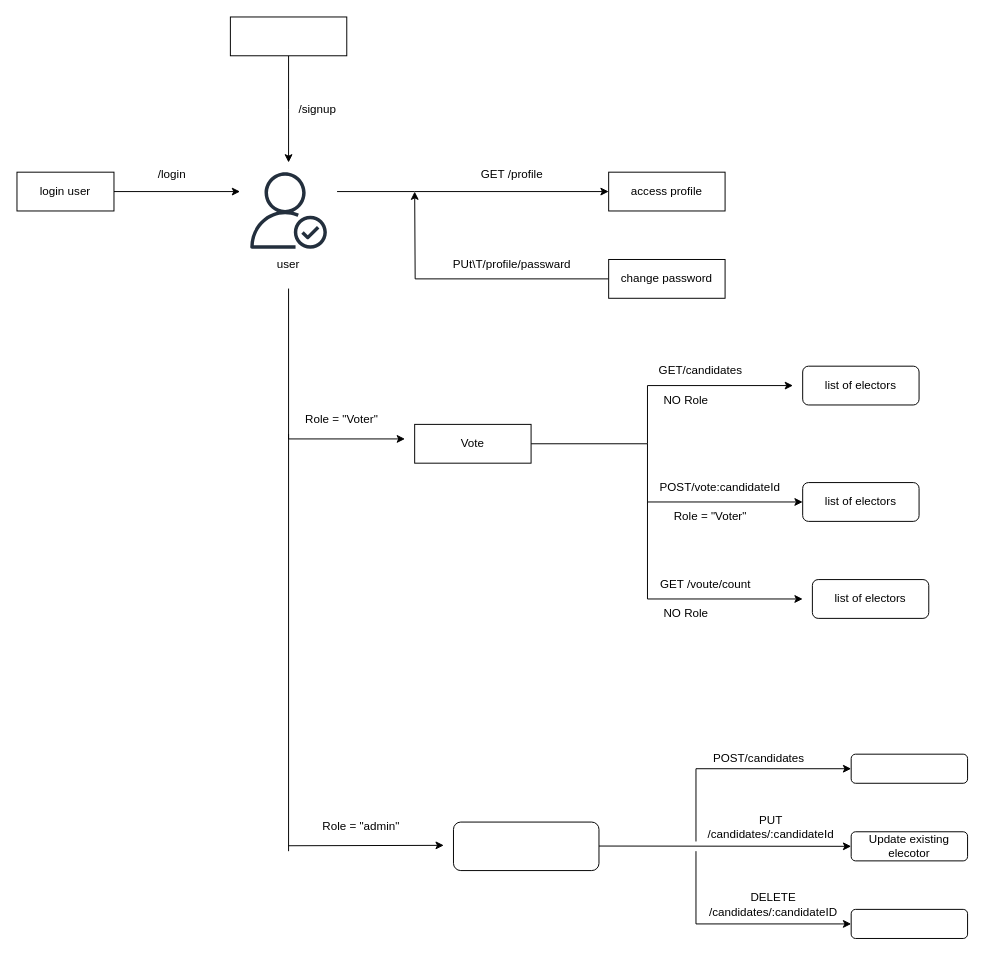
This 985x955 diagram has some shape labels left out. Here are the shapes that lost their labels. From the top down, the centre of each, then its label:
(x=288, y=36): Create User
(x=909, y=768): create new elector
(x=526, y=846): Elector management
(x=909, y=923): Delete a elector
